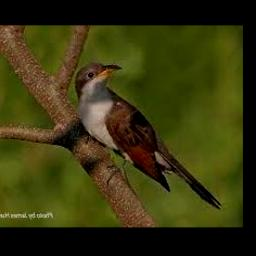Cuckoo: (75, 63, 223, 209)
